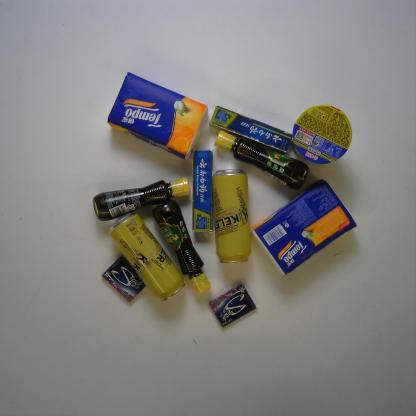Alcohol: (107, 209, 187, 304), (210, 168, 253, 265)
Gum: (206, 282, 258, 330), (100, 254, 148, 305)
Instant Noodles: (290, 102, 354, 166)
Personal Hygiene: (208, 104, 293, 156), (190, 148, 215, 235)
Seasoner: (212, 128, 310, 191), (151, 198, 213, 296), (90, 176, 192, 222)
Tissue: (249, 177, 359, 279), (104, 68, 210, 162)
